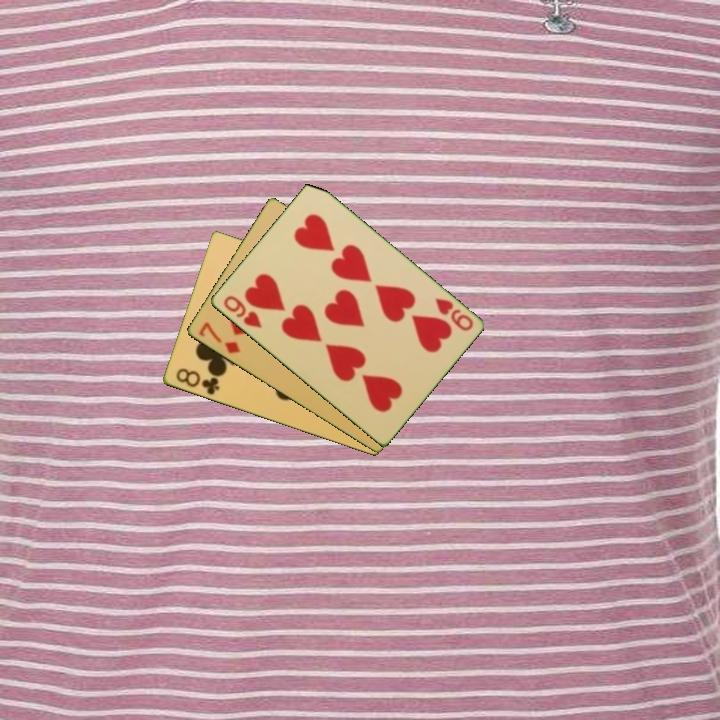7d: (195, 319, 243, 357)
8c: (172, 365, 222, 398)
9h: (431, 294, 476, 334), (219, 292, 264, 331)
